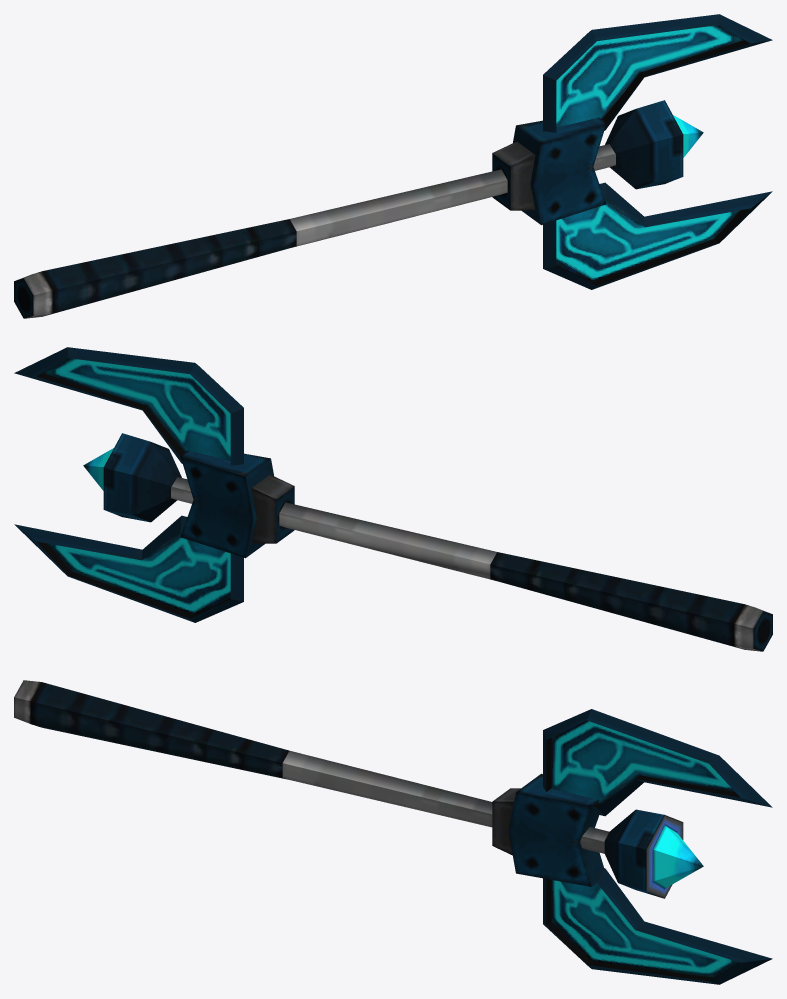
Rendered from flag.fbx.
The picture shows the model from 3 angles, top to bottom: view 1: azimuth 30°, elevation 25°; view 2: azimuth 150°, elevation 25°; view 3: azimuth 330°, elevation 25°; orthographic projection.
Parts seen in each view (by area): view 1: Texture_783; view 2: Texture_783; view 3: Texture_783.
Boxes of the visible parts, left/top/right/bottom form: Texture_783: left=14, top=14, right=772, bottom=318; Texture_783: left=14, top=347, right=772, bottom=651; Texture_783: left=14, top=680, right=772, bottom=984.
Size of the model in its own units: 2821 by 936 by 243.
